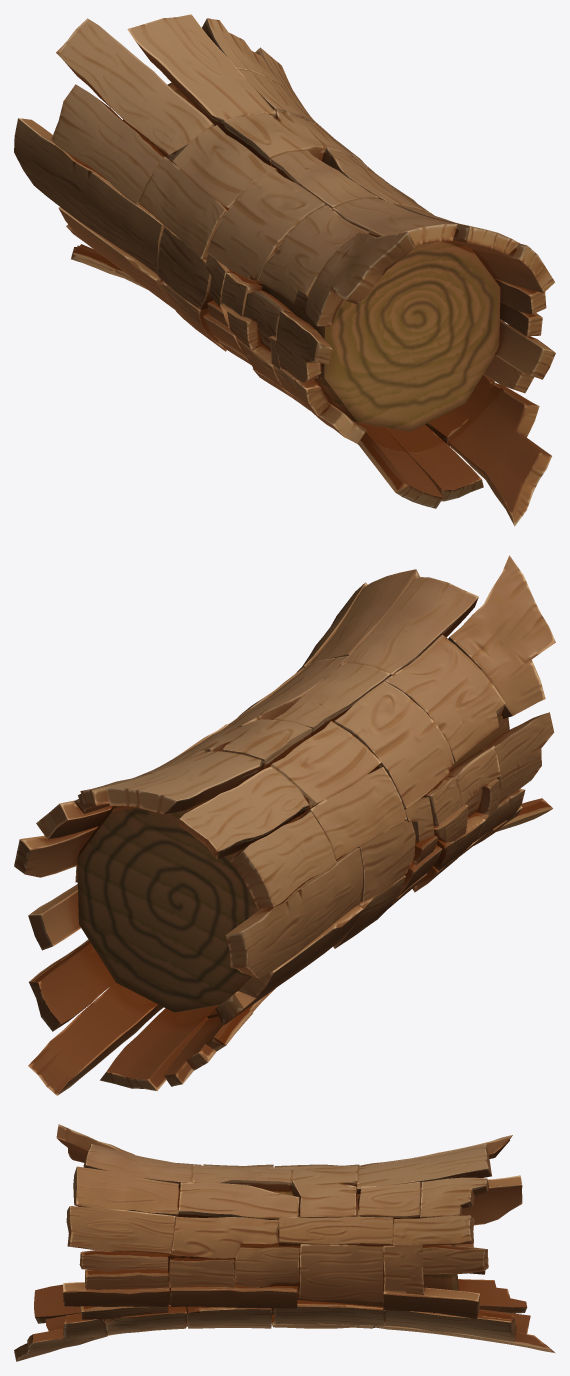
The model's file is Fallen log.fbx.
The picture shows the model from 3 angles, top to bottom: view 1: azimuth 30°, elevation 25°; view 2: azimuth 150°, elevation 25°; view 3: azimuth 270°, elevation 25°; orthographic projection. The views are drawn at different scales.
Visible parts, largest first — view 1: Fallen_log_LOD0; view 2: Fallen_log_LOD0; view 3: Fallen_log_LOD0.
Boxes of the visible parts, x1,y1,x2,y2 form: Fallen_log_LOD0: (14,14,555,526); Fallen_log_LOD0: (14,555,555,1095); Fallen_log_LOD0: (14,1124,555,1361).
Size of what is drawn, in the model's own units: 3 by 3.42 by 7.97.
1 material, 1 textured.
